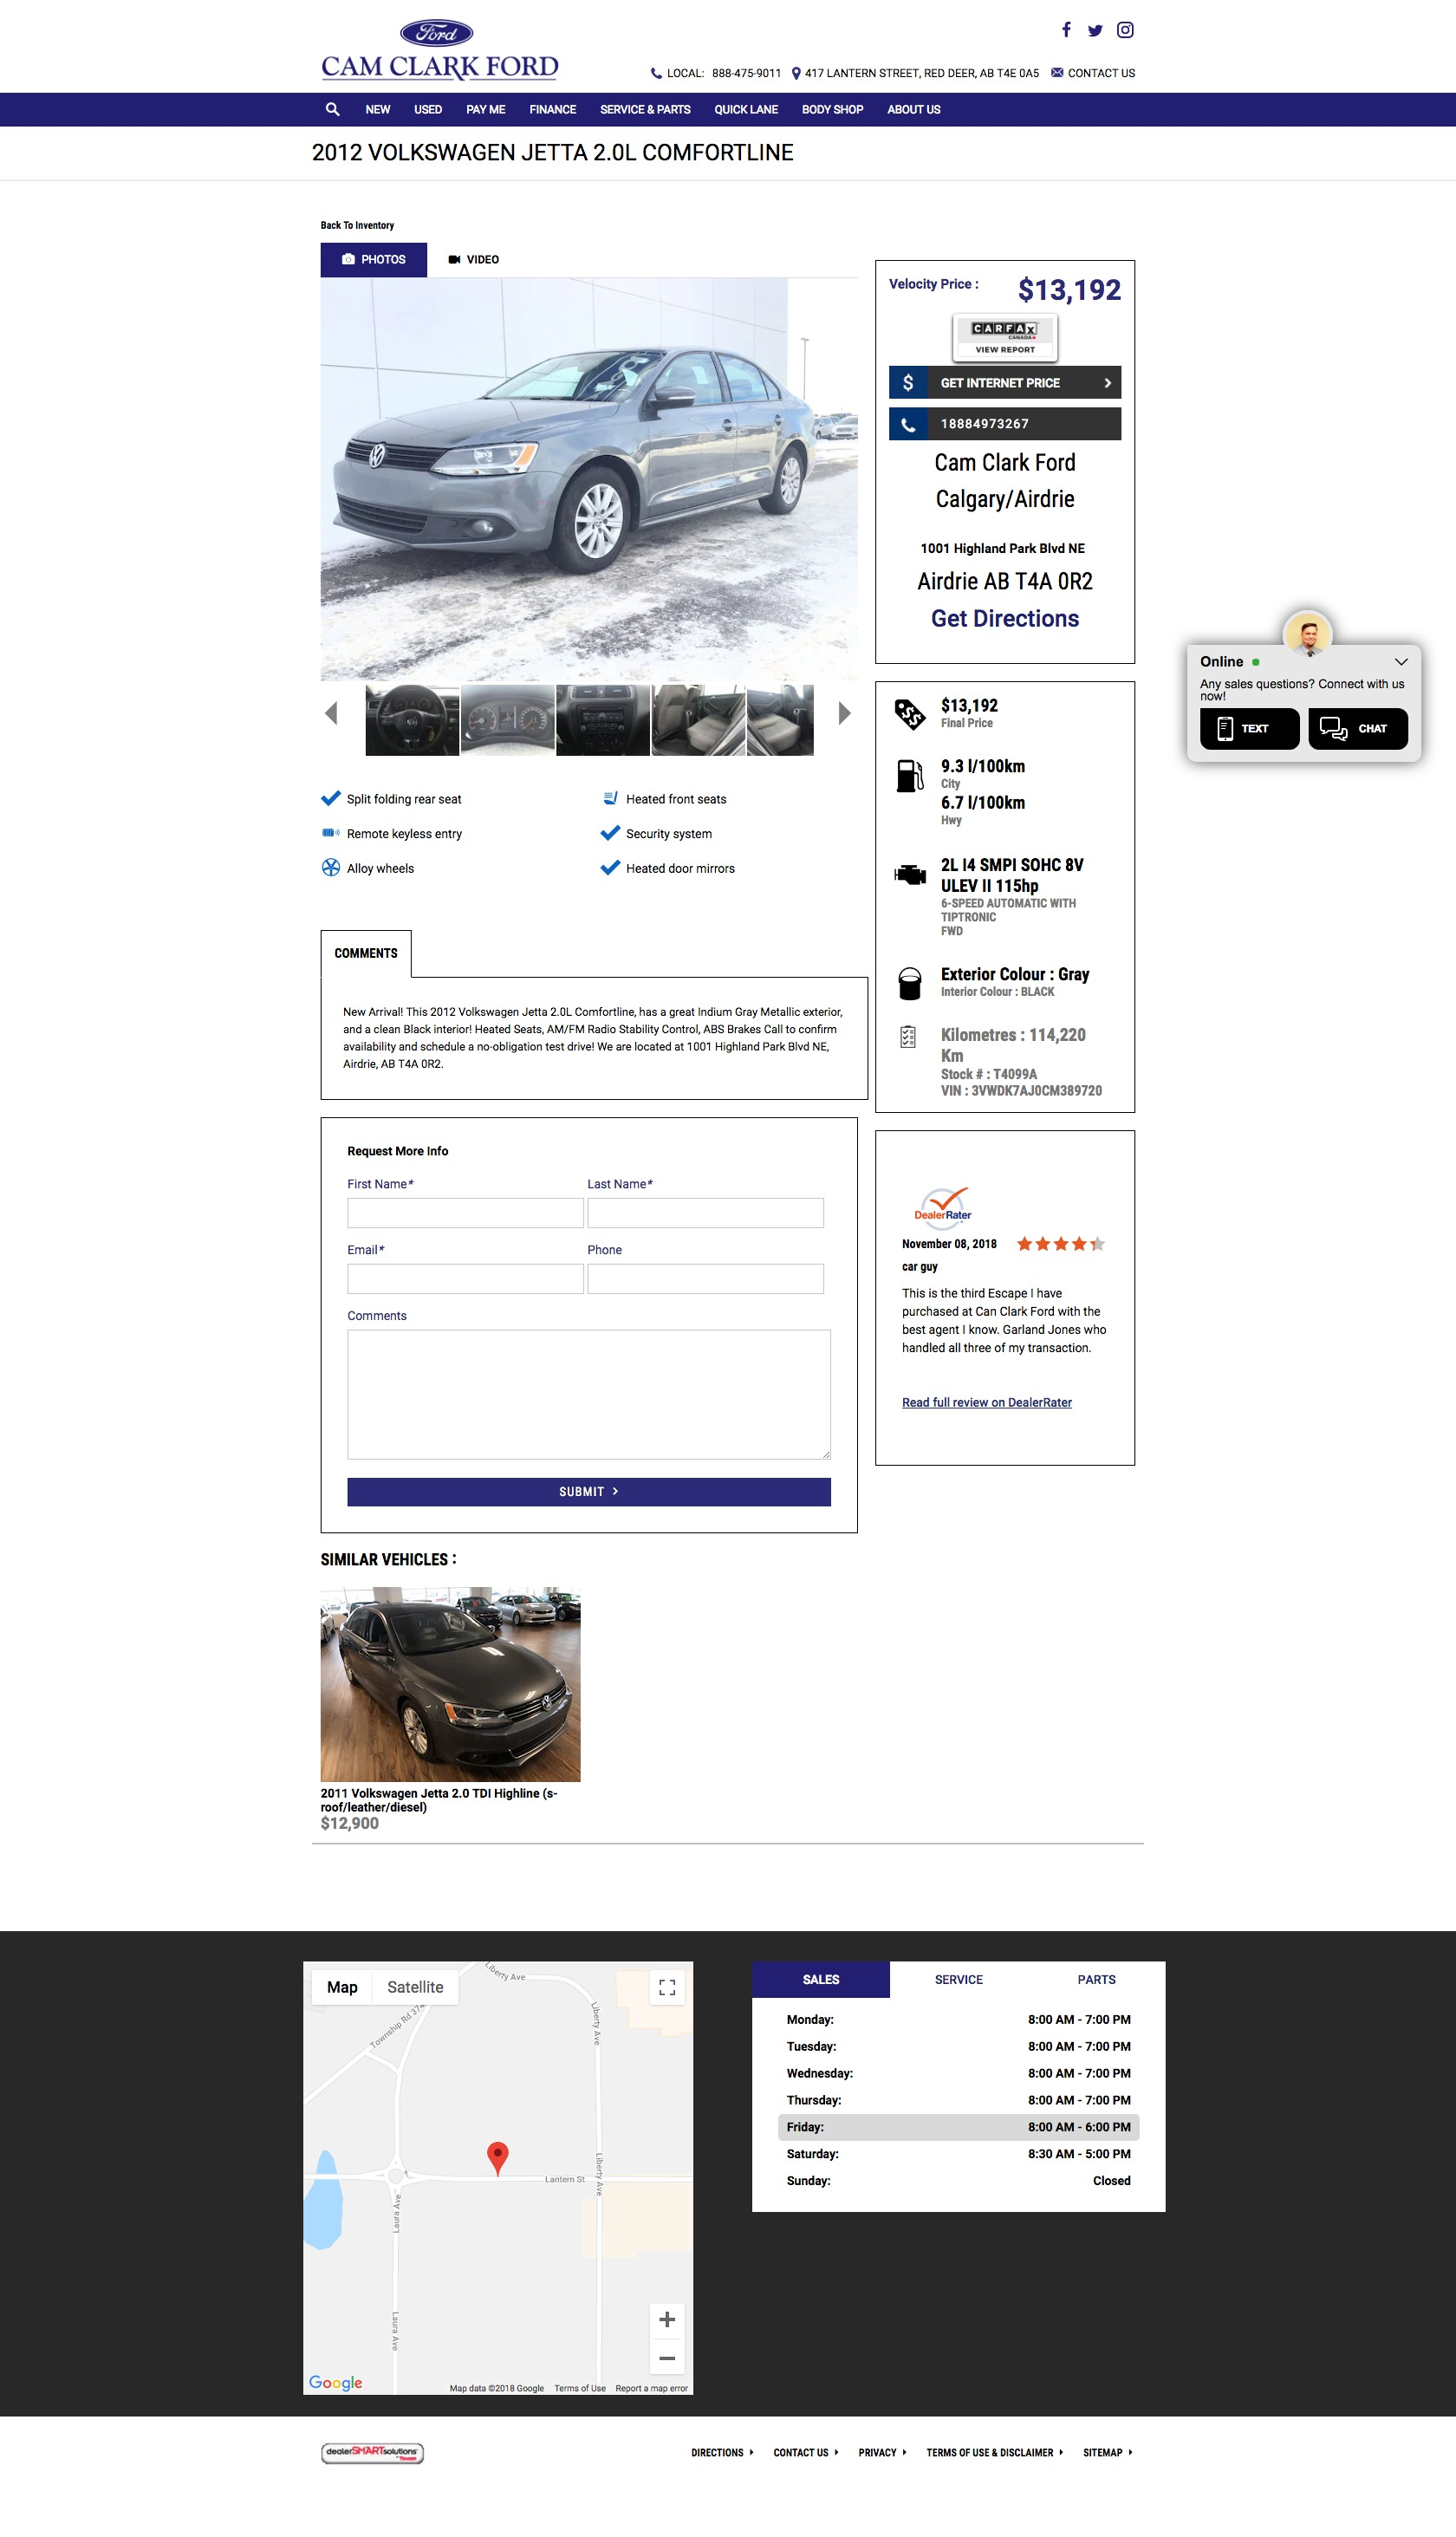car: (838, 702, 852, 728)
